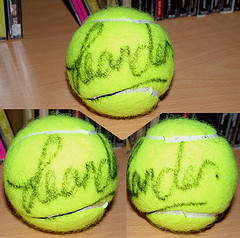tennis ball: (3, 113, 118, 232), (125, 116, 238, 234), (64, 6, 177, 118)
